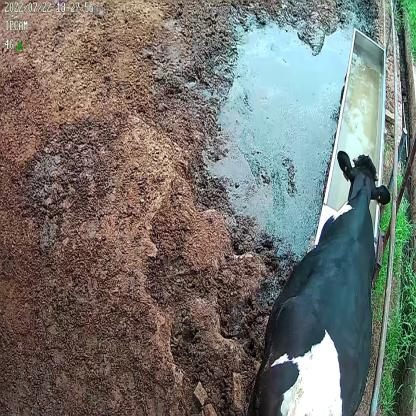cow: (246, 146, 392, 416)
